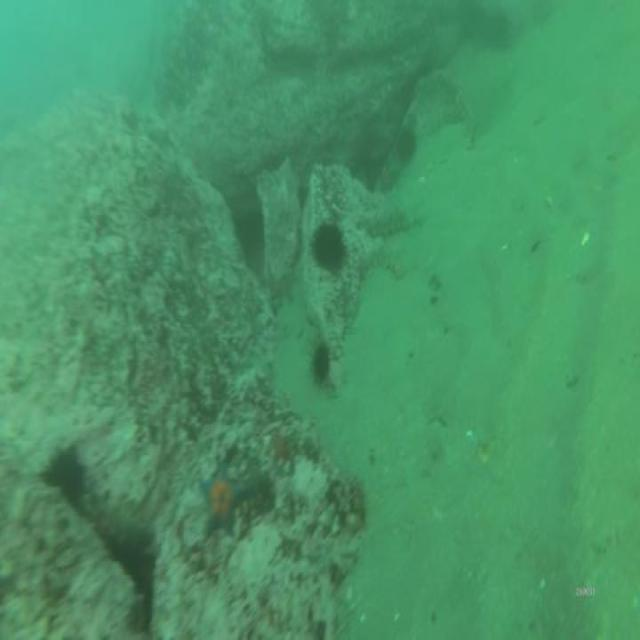echinus: (41, 444, 87, 507), (308, 216, 350, 274), (307, 333, 336, 389), (392, 122, 420, 161)
holothurian: (449, 71, 477, 147), (366, 202, 422, 235), (356, 242, 406, 276)
starfish: (196, 455, 250, 541)
